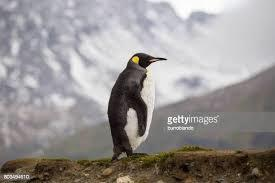king: (99, 40, 173, 167)
